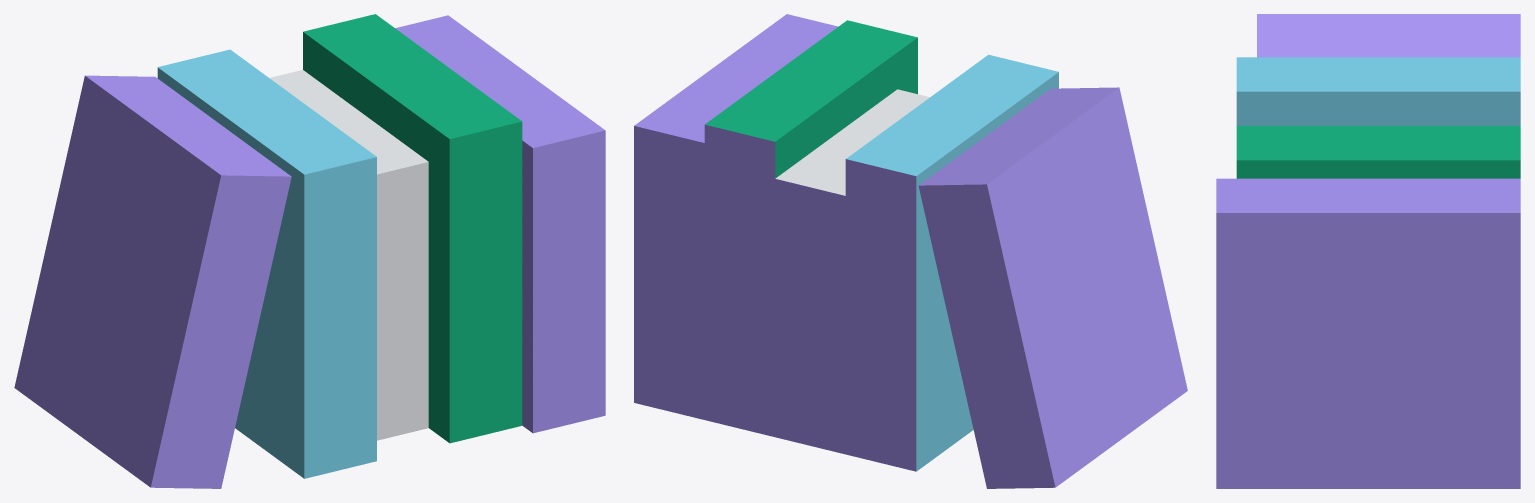
The model's file is book_stack.glb.
The picture shows the model from 3 angles, left to right: view 1: azimuth 30°, elevation 25°; view 2: azimuth 150°, elevation 25°; view 3: azimuth 270°, elevation 25°; orthographic projection. The views are drawn at different scales.
Parts seen in each view (by area): view 1: books(Clone); view 2: books(Clone); view 3: books(Clone).
Boxes of the visible parts, x1,y1,x2,y2 form: books(Clone): (14, 14, 605, 488); books(Clone): (634, 14, 1187, 488); books(Clone): (1216, 14, 1520, 488).
Size of the model in its own units: 0.24 by 0.1657 by 0.1508.
